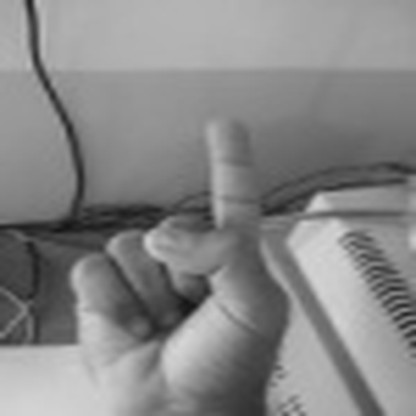d: (66, 105, 298, 416)
